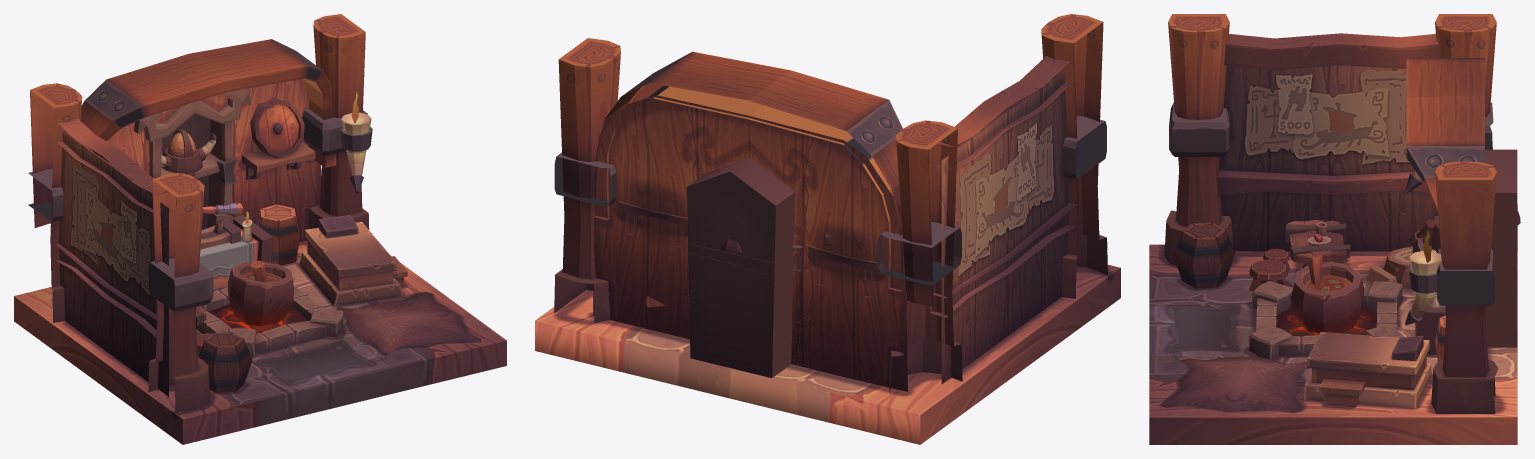
Rendered from viking_room.obj.
3 renders of one model, left to right at view 1: azimuth 30°, elevation 25°; view 2: azimuth 150°, elevation 25°; view 3: azimuth 270°, elevation 25°, orthographic. The views are drawn at different scales.
Parts seen in each view (by area): view 1: mesh; view 2: mesh; view 3: mesh.
Part boxes in pixels (bbox=[...]): mesh: bbox=[14, 14, 506, 444]; mesh: bbox=[535, 14, 1120, 444]; mesh: bbox=[1149, 14, 1520, 444].
Bounding box in the file's own units: 10.36 × 7.32 × 9.41.
1 material, 1 textured.
